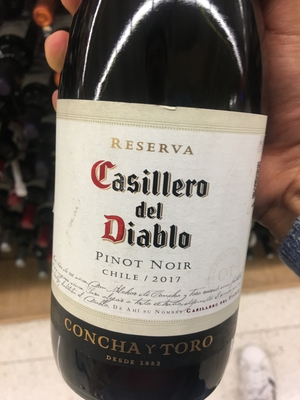casillero del diablo pinot noir: (49, 9, 276, 399)
